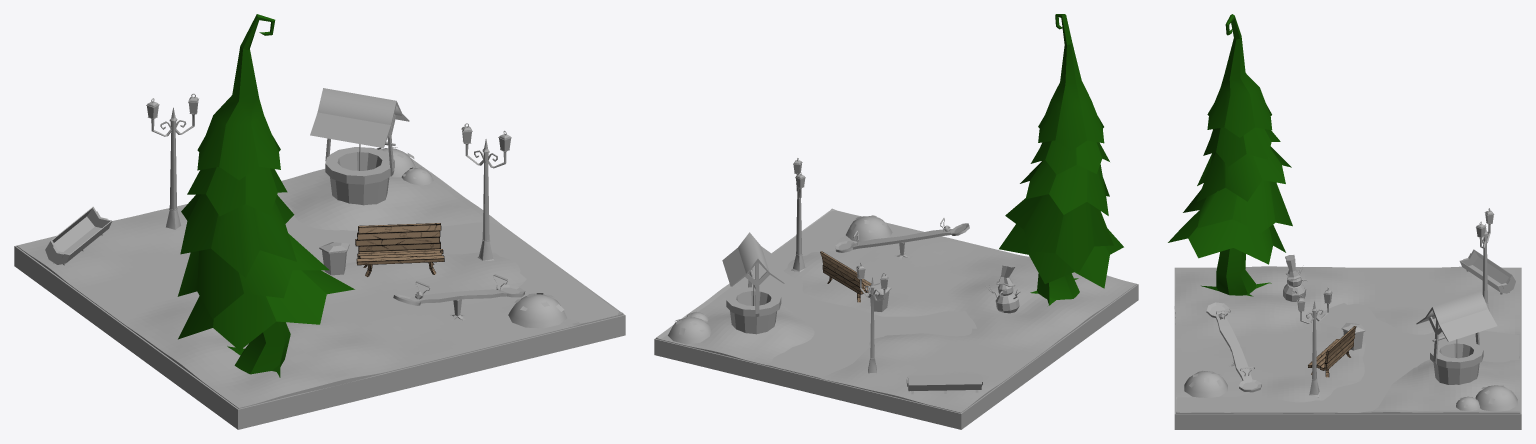
The model's file is Village_place_du_village.fbx.
The picture shows the model from 3 angles, left to right: view 1: azimuth 30°, elevation 25°; view 2: azimuth 150°, elevation 25°; view 3: azimuth 270°, elevation 25°; orthographic projection. The views are drawn at different scales.
Parts seen in each view (by area): view 1: sol21, sapin6, sol4, puit, chemin, banc, abreuvoir, Buisson8, lampadaire1, lampadaire, tape_cul, poubelle1; view 2: sol21, sapin6, chemin, sol4, puit, abreuvoir, tape_cul, banc, Buisson9, Buisson8, lampadaire1, lampadaire; view 3: sol21, sapin6, chemin, sol4, puit, tape_cul, abreuvoir, Buisson8, Buisson9, banc, lampadaire, lampadaire1.
Part boxes in pixels (x1,y1,x2,y2): sol21: [16, 158, 623, 408]; sapin6: [177, 14, 354, 377]; sol4: [14, 194, 625, 429]; puit: [310, 88, 409, 205]; chemin: [284, 203, 618, 323]; banc: [355, 223, 444, 276]; abreuvoir: [45, 206, 112, 265]; Buisson8: [508, 293, 567, 328]; lampadaire1: [146, 93, 198, 229]; lampadaire: [461, 123, 511, 261]; tape_cul: [393, 274, 525, 305]; poubelle1: [319, 242, 349, 275]; sol21: [656, 208, 1136, 413]; sapin6: [999, 14, 1123, 305]; chemin: [736, 210, 976, 377]; sol4: [654, 211, 1138, 429]; puit: [722, 232, 784, 334]; abreuvoir: [906, 374, 982, 394]; tape_cul: [835, 218, 969, 252]; banc: [820, 251, 871, 302]; Buisson9: [668, 316, 711, 344]; Buisson8: [846, 215, 892, 241]; lampadaire1: [856, 263, 888, 373]; lampadaire: [791, 158, 805, 272]; sol21: [1174, 266, 1520, 413]; sapin6: [1168, 14, 1292, 296]; chemin: [1176, 303, 1519, 413]; sol4: [1174, 267, 1521, 429]; puit: [1416, 291, 1497, 384]; tape_cul: [1206, 302, 1261, 392]; abreuvoir: [1459, 249, 1515, 294]; Buisson8: [1184, 370, 1227, 397]; Buisson9: [1475, 385, 1517, 411]; banc: [1308, 326, 1356, 377]; lampadaire: [1296, 287, 1332, 397]; lampadaire1: [1476, 208, 1494, 311].
Size of the model in its own units: 1050 by 946 by 1045.
